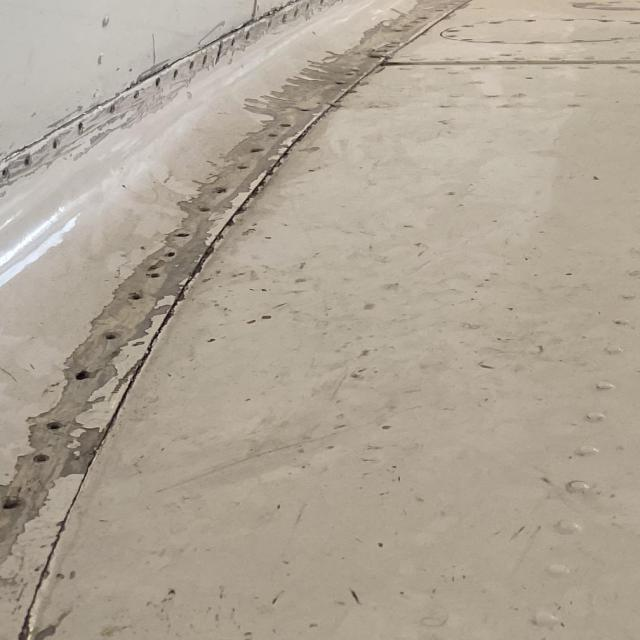Fastener Damage: (68, 364, 98, 386), (42, 417, 68, 436), (0, 496, 26, 512), (100, 330, 126, 344), (168, 227, 195, 239), (198, 204, 218, 220), (32, 451, 52, 466), (128, 292, 149, 306), (0, 168, 15, 183), (52, 136, 64, 154), (164, 249, 179, 262)
Rupture: (228, 0, 319, 34), (115, 57, 182, 93)
